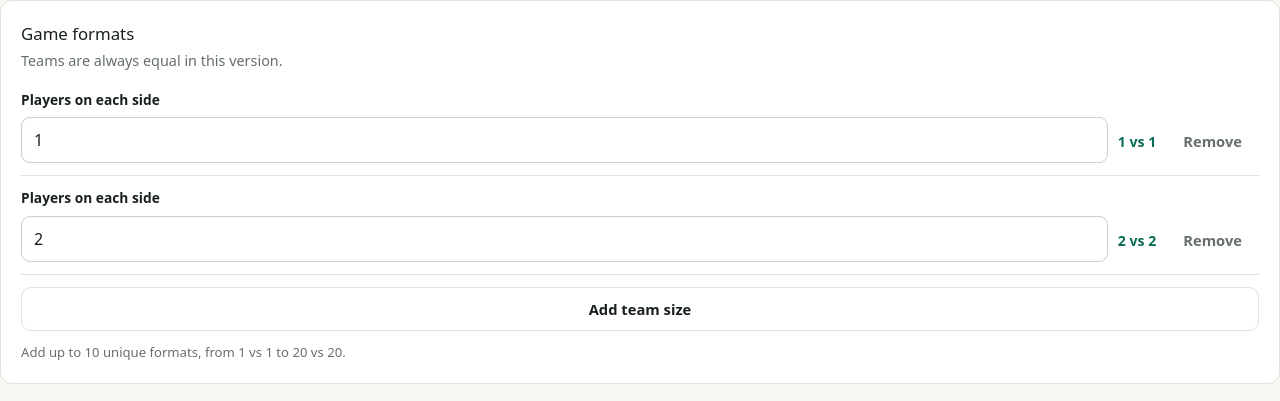
it: CompetitionFormatFields › prevents an invalid duplicate from being submitted by browser validation
This screenshot has width=1280, height=401.
Replace the text in the number field labelled "Players on each side" next to "2 vs 2" with "1" at (564, 239), box [21,216,1108,262]
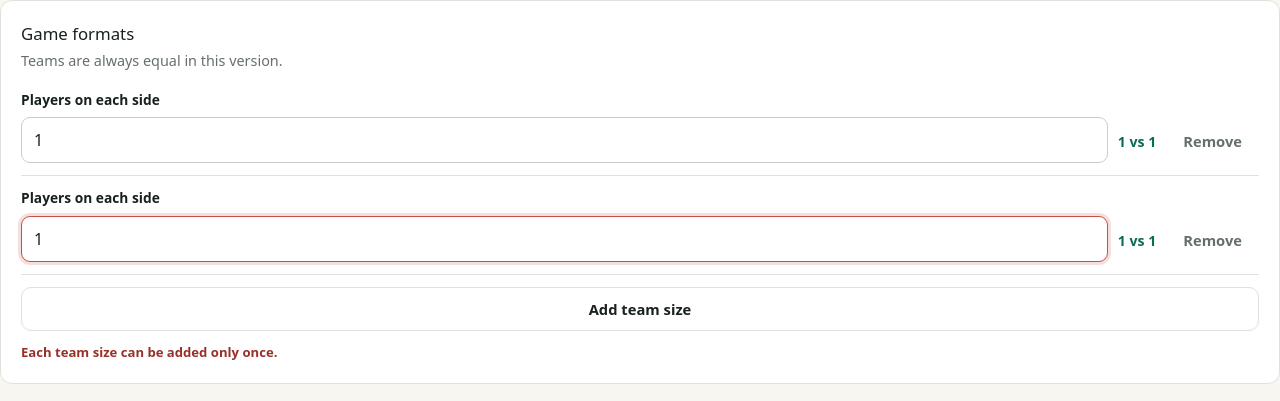
Expected: the message reads "Each team size can be added only once.", [21,343,277,361]
